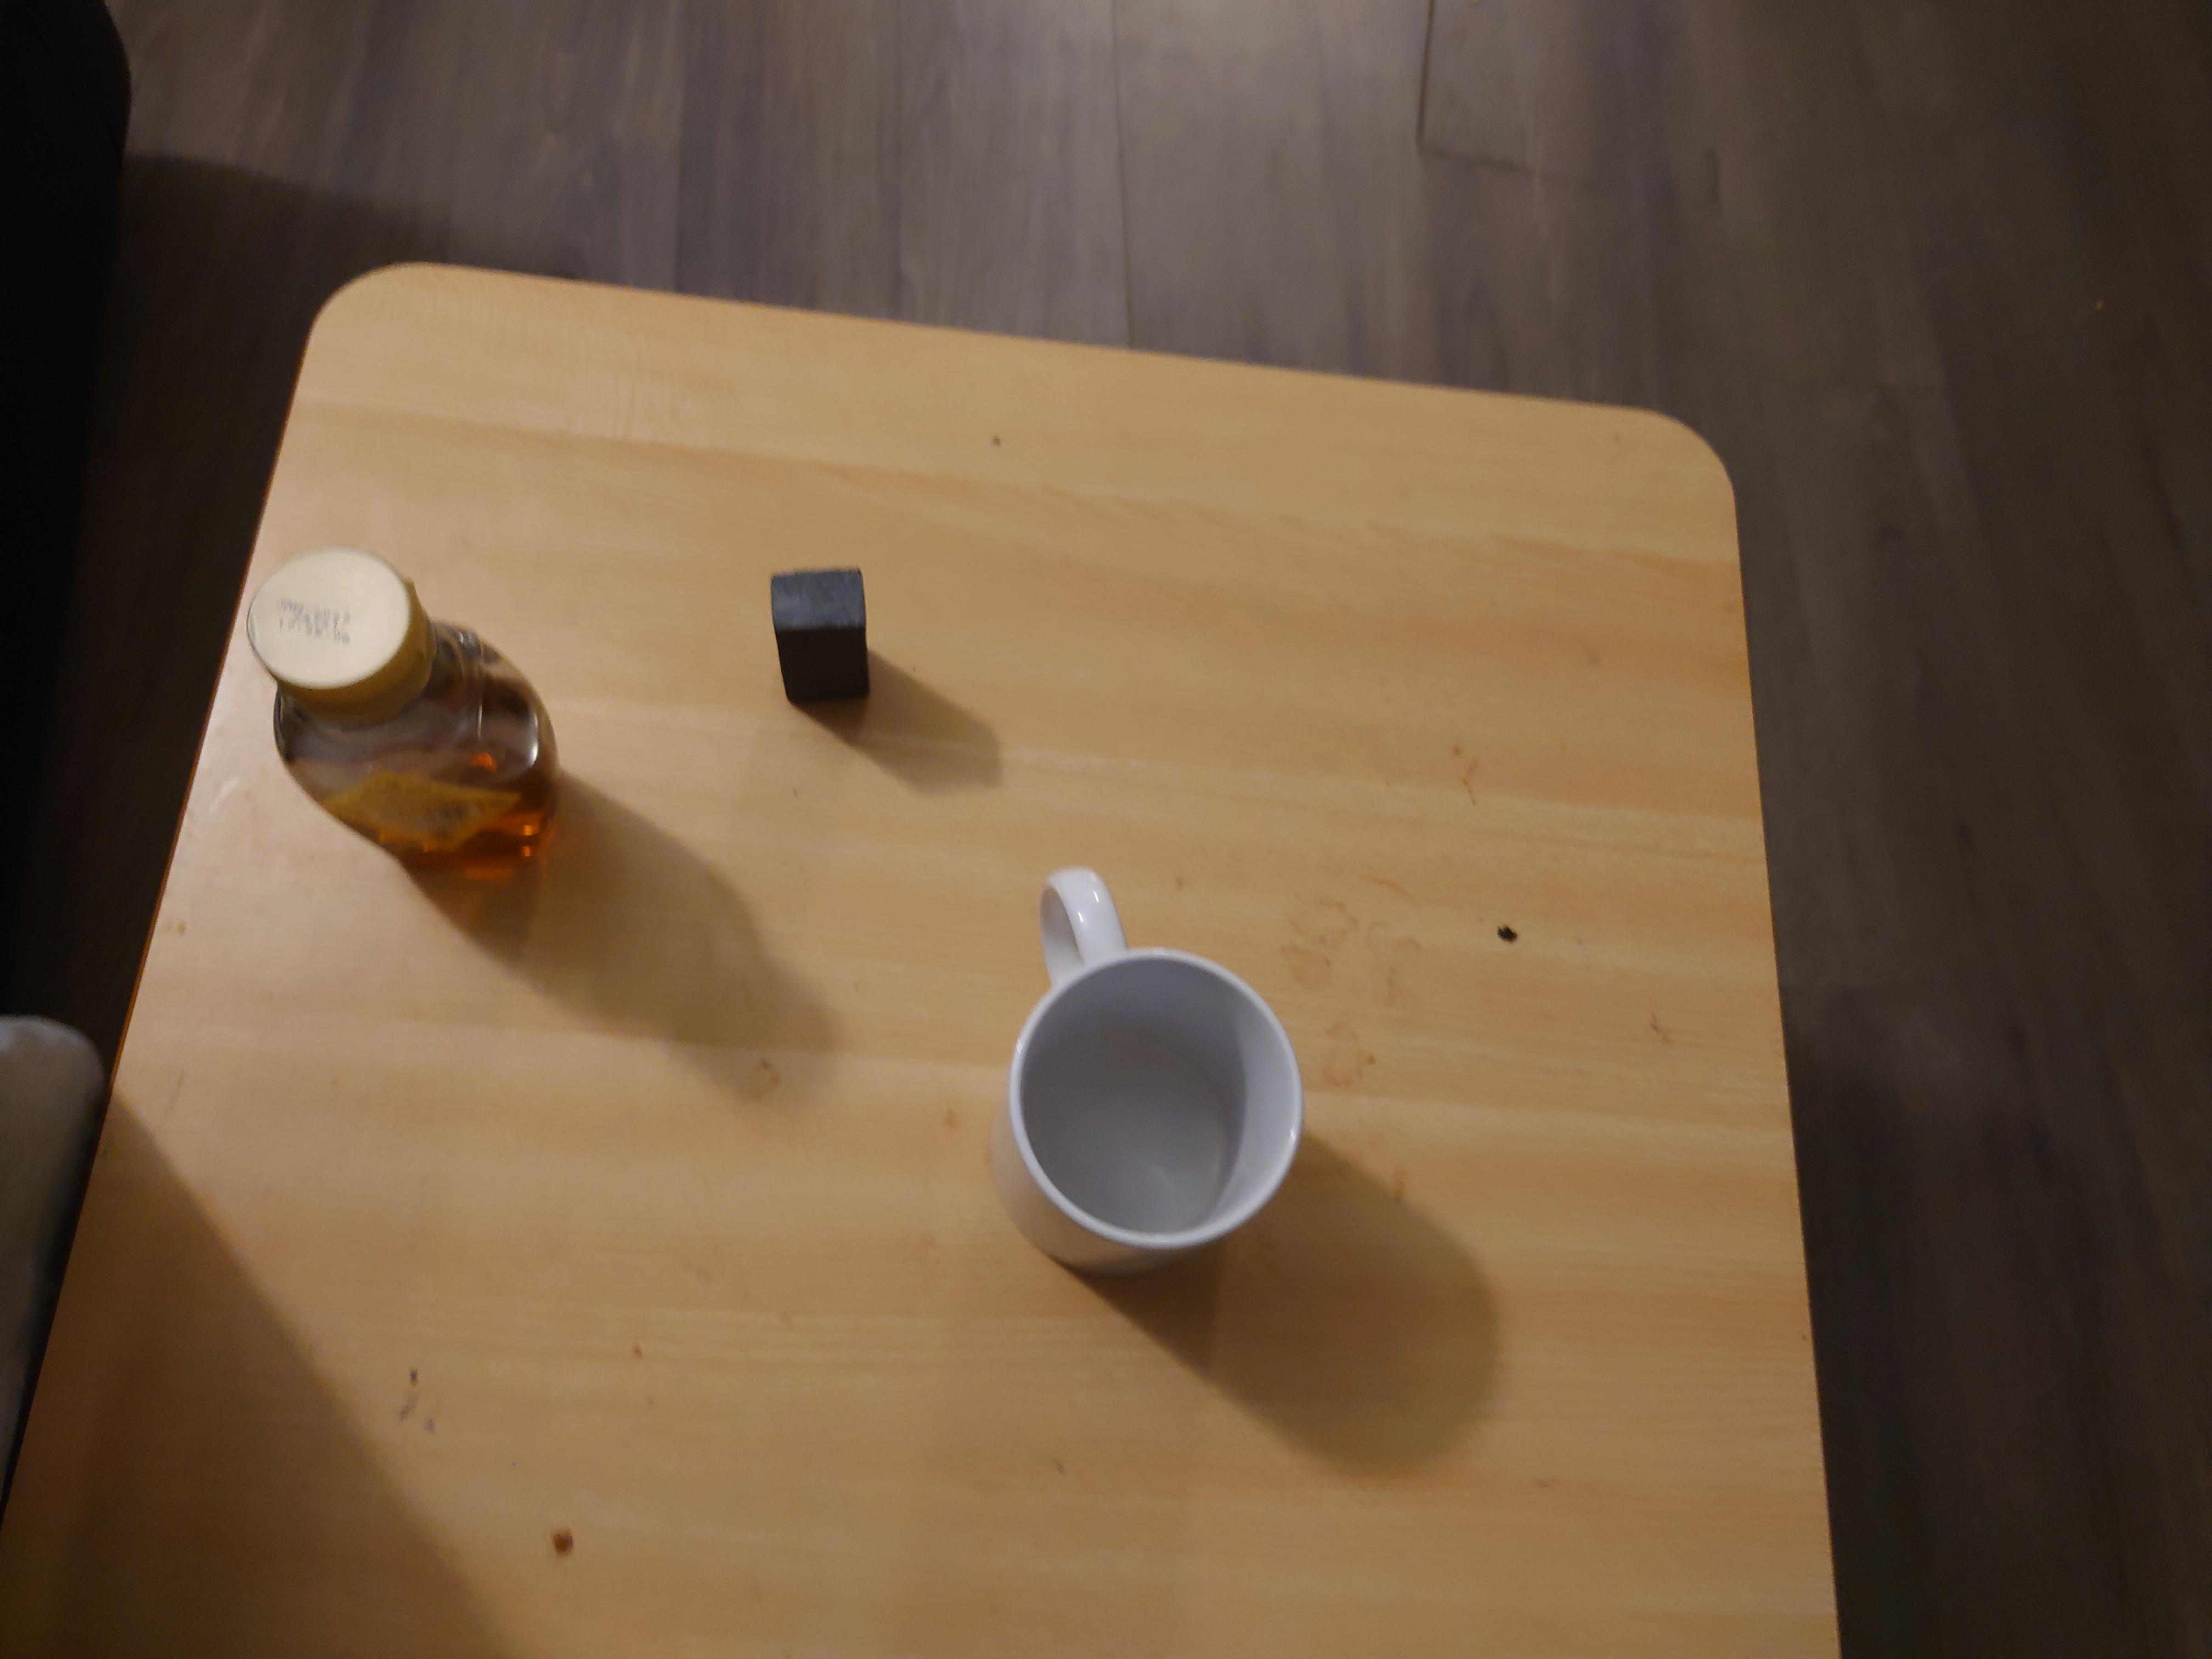cup: (986, 868, 1301, 1286)
target: (754, 568, 876, 704)
